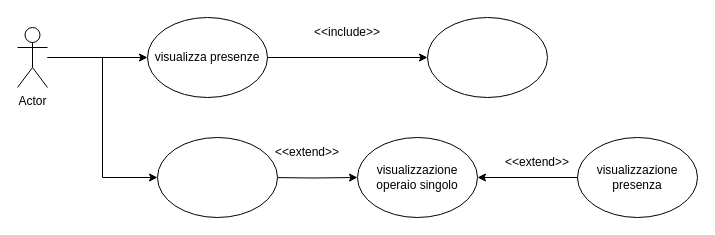
The diagram is 715 pixels wide and 235 high, and some of its shapes have lost their labels. Each missing label, with the centre of its shape:
"visualizza lista semplice operai" belongs at (x=217, y=177).
"visualizzazione lista operai con presenze" belongs at (x=487, y=57).
